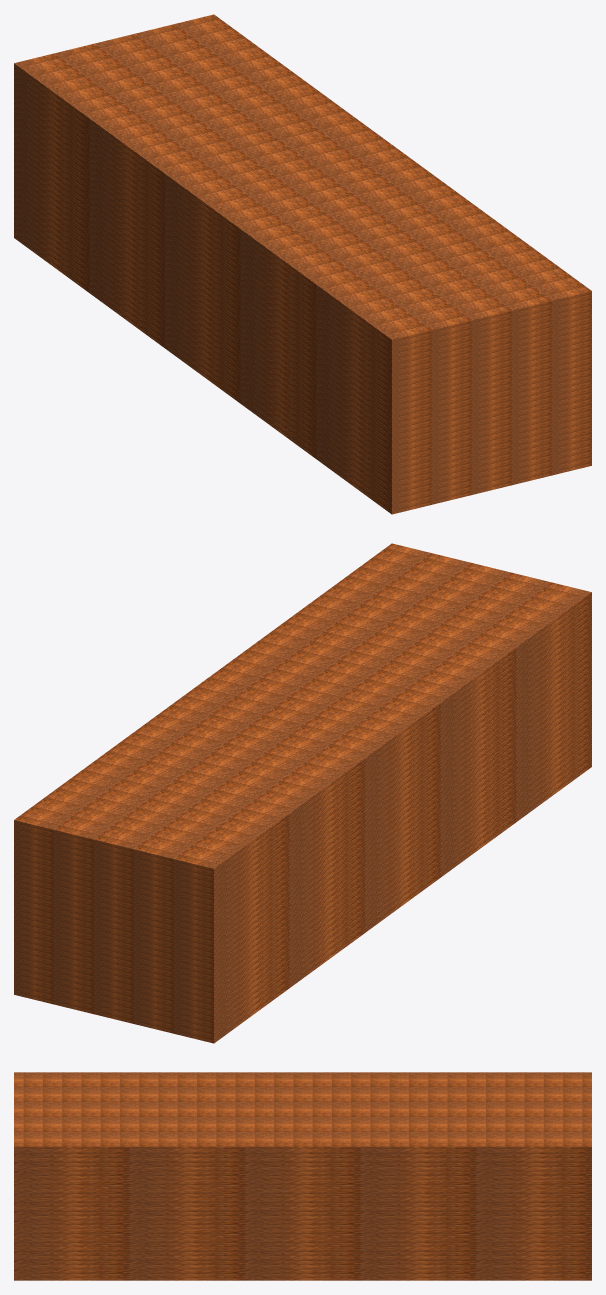
File: yuka.fbx
3 views of the same model, one above another, from view 1: azimuth 30°, elevation 25°; view 2: azimuth 150°, elevation 25°; view 3: azimuth 270°, elevation 25° (orthographic). The views are drawn at different scales.
Parts seen in each view (by area): view 1: yuka; view 2: yuka; view 3: yuka.
Boxes of the visible parts, <box> form: yuka: <box>14,14,591,514</box>; yuka: <box>14,543,591,1043</box>; yuka: <box>14,1072,591,1280</box>.
Bounding box in the file's own units: 268 × 877 × 224.
Materials: 1 (1 with a texture image).
